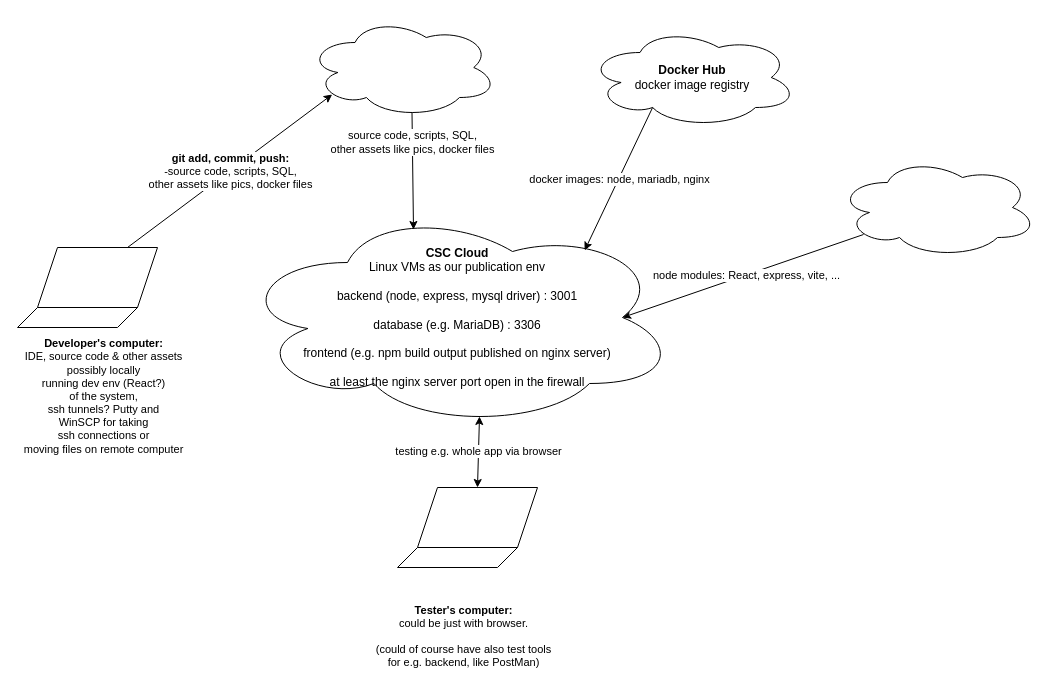
This 1055x686 diagram has some shape labels left out. The shapes that lost their labels are listed below. From the top down, each one's centre as x and y in pixels, then its label:
[402,67]: GitHub remote repo server
[937,207]: npmjs , npm module registry
